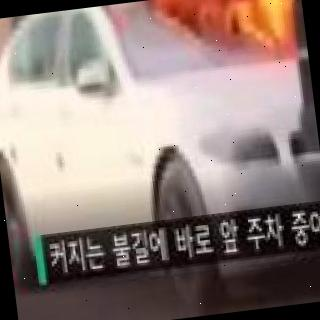fire: (177, 0, 307, 64)
